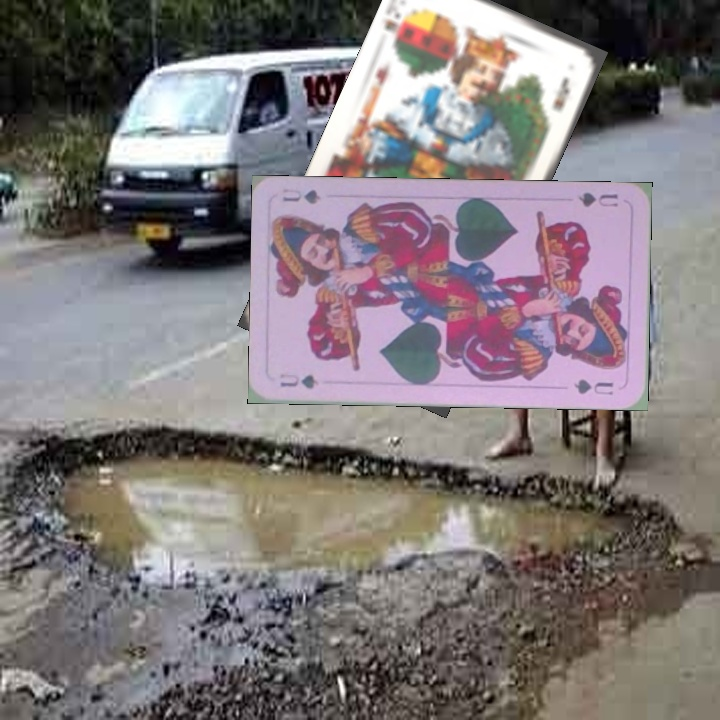GU: (574, 188, 620, 210), (276, 369, 322, 391)
SK: (379, 3, 415, 49)
